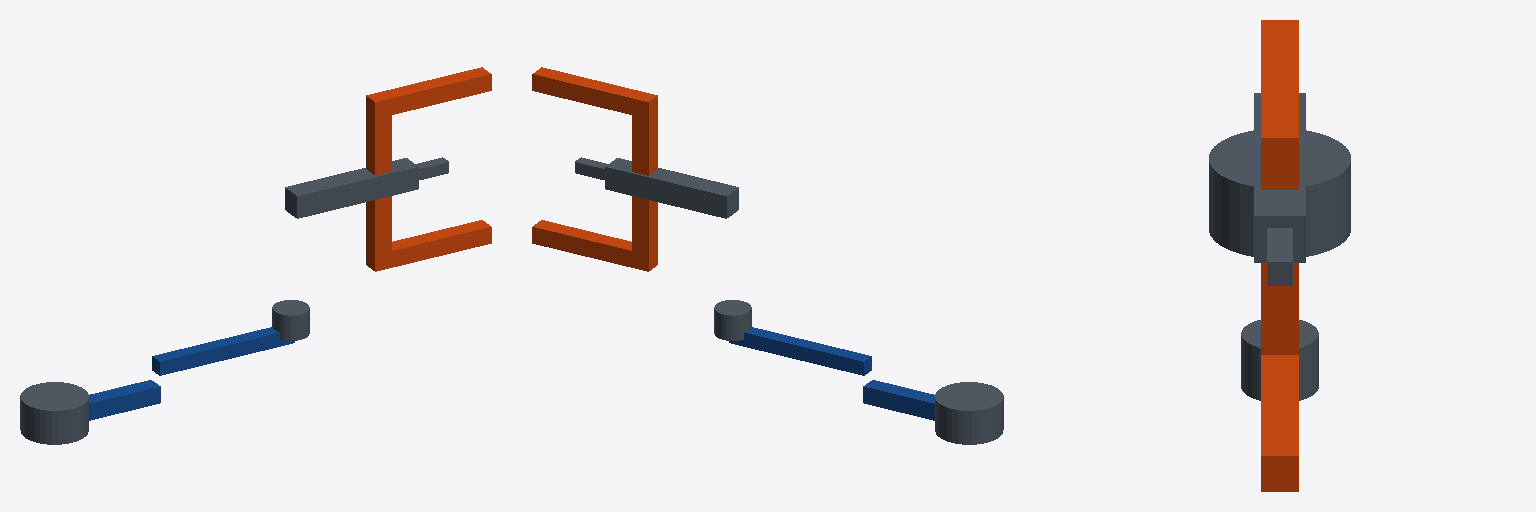
URDF robot description (rtmc_simulation):
<?xml version="1.0"?>
<!-- Synthetic engineering visualization only; dimensions are provisional, not OEM CAD. -->
<robot name="rtmc_simulation">
  <material name="frame_gray"><color rgba="0.35 0.39 0.43 1"/></material>
  <material name="arm_blue"><color rgba="0.12 0.34 0.62 1"/></material>
  <material name="carm_orange"><color rgba="0.85 0.32 0.08 1"/></material>
  <link name="rtmc_patient"/>
  <!-- Revision-5 K-to-world registration (-1.15 m) plus drive base (-0.25 m). -->
  <link name="column_base">
    <visual><origin xyz="0 0 0.12"/><geometry><cylinder radius="0.22" length="0.24"/></geometry><material name="frame_gray"/></visual>
  </link>
  <joint name="world_to_column_base" type="fixed"><parent link="rtmc_patient"/><child link="column_base"/><origin xyz="-1.40 0 0"/></joint>
  <link name="link1">
    <visual><origin xyz="0.375 0 0"/><geometry><box size="0.75 0.12 0.12"/></geometry><material name="arm_blue"/></visual>
  </link>
  <joint name="A1" type="revolute"><parent link="column_base"/><child link="link1"/><origin xyz="0 0 0.10"/><axis xyz="0 0 1"/><limit lower="-3.141592654" upper="0.174532925" effort="1" velocity="1.047197551"/></joint>
  <link name="link2">
    <visual><origin xyz="0.5 0 0"/><geometry><box size="1.0 0.10 0.10"/></geometry><material name="arm_blue"/></visual>
  </link>
  <joint name="A2" type="revolute"><parent link="link1"/><child link="link2"/><origin xyz="0.75 0 0.18"/><axis xyz="0 0 1"/><limit lower="0" upper="3.141592654" effort="1" velocity="1.047197551"/></joint>
  <link name="column"><visual><origin xyz="0 0 0"/><geometry><cylinder radius="0.12" length="0.18"/></geometry><material name="frame_gray"/></visual></link>
  <joint name="link2_to_column" type="fixed"><parent link="link2"/><child link="column"/><origin xyz="1.0 0 0.09"/></joint>
  <link name="a3_boom"/>
  <joint name="column_to_a3_pivot" type="fixed"><parent link="column"/><child link="a3_boom"/><origin xyz="0 0 0.83"/></joint>
  <link name="boom">
    <visual><origin xyz="0.45 0 0"/><geometry><box size="0.90 0.16 0.16"/></geometry><material name="frame_gray"/></visual>
  </link>
  <joint name="A3" type="revolute"><parent link="a3_boom"/><child link="boom"/><axis xyz="0 0 1"/><limit lower="-3.141592654" upper="3.141592654" effort="1" velocity="0.174532925"/></joint>
  <!-- Provisional 1.15 m remote-centre carrier locates the isocentre. -->
  <link name="remote_center_mount"><visual><origin xyz="-0.575 0 0"/><geometry><box size="1.15 0.08 0.08"/></geometry><material name="frame_gray"/></visual></link>
  <joint name="boom_to_a4_carrier" type="fixed"><parent link="boom"/><child link="remote_center_mount"/><origin xyz="1.15 0 0"/></joint>
  <link name="imaging_center"/>
  <joint name="mount_to_imaging_center" type="fixed"><parent link="remote_center_mount"/><child link="imaging_center"/></joint>
  <link name="a4_carrier"/>
  <joint name="A4" type="revolute"><parent link="imaging_center"/><child link="a4_carrier"/><axis xyz="1 0 0"/><limit lower="-3.141592654" upper="3.141592654" effort="1" velocity="1.047197551"/></joint>
  <link name="a5_carrier"/>
  <joint name="A5" type="revolute"><parent link="a4_carrier"/><child link="a5_carrier"/><axis xyz="0 1 0"/><limit lower="-1.570796327" upper="1.570796327" effort="1" velocity="1.047197551"/></joint>
  <link name="c_arm">
    <!-- Schematic C silhouette only; collision geometry remains in the reference model. -->
    <visual><origin xyz="-0.50 0 0"/><geometry><box size="0.12 0.12 1.20"/></geometry><material name="carm_orange"/></visual>
    <visual><origin xyz="-0.10 0 0.54"/><geometry><box size="0.80 0.12 0.12"/></geometry><material name="carm_orange"/></visual>
    <visual><origin xyz="-0.10 0 -0.54"/><geometry><box size="0.80 0.12 0.12"/></geometry><material name="carm_orange"/></visual>
  </link>
  <joint name="a5_carrier_to_c_arm" type="fixed"><parent link="a5_carrier"/><child link="c_arm"/></joint>
</robot>

--- Facts derived from the render (not from the file) ---
The picture shows the robot from 3 angles, left to right: view 1: azimuth 30°, elevation 25°; view 2: azimuth 150°, elevation 25°; view 3: azimuth 270°, elevation 25°; orthographic projection.
Model rtmc_simulation with 12 links and 11 joints (5 revolute, 6 fixed), rooted at rtmc_patient, posed every joint at zero.
Visible links, largest first — view 1: c_arm, boom, column_base, link2, link1, column, remote_center_mount; view 2: c_arm, boom, column_base, link2, link1, column, remote_center_mount; view 3: c_arm, column_base, boom, column, remote_center_mount.
Link boxes in pixels (box(x1,y1,x2,y2)): c_arm: box(366, 67, 491, 271); boom: box(285, 158, 418, 218); column_base: box(20, 382, 88, 444); link2: box(152, 327, 294, 375); link1: box(89, 380, 160, 420); column: box(272, 300, 309, 340); remote_center_mount: box(288, 157, 448, 207); c_arm: box(532, 67, 657, 271); boom: box(605, 158, 738, 218); column_base: box(935, 382, 1003, 444); link2: box(729, 327, 871, 375); link1: box(863, 380, 934, 420); column: box(714, 300, 751, 340); remote_center_mount: box(575, 157, 735, 207); c_arm: box(1261, 20, 1298, 491); column_base: box(1209, 130, 1350, 256); boom: box(1254, 93, 1305, 262); column: box(1241, 320, 1318, 400); remote_center_mount: box(1267, 228, 1292, 285).
Bounding box of the posed robot: 3.42 × 0.44 × 1.8 m (x, y, z).
Geometry: primitives only (box / cylinder / sphere), no mesh files.
